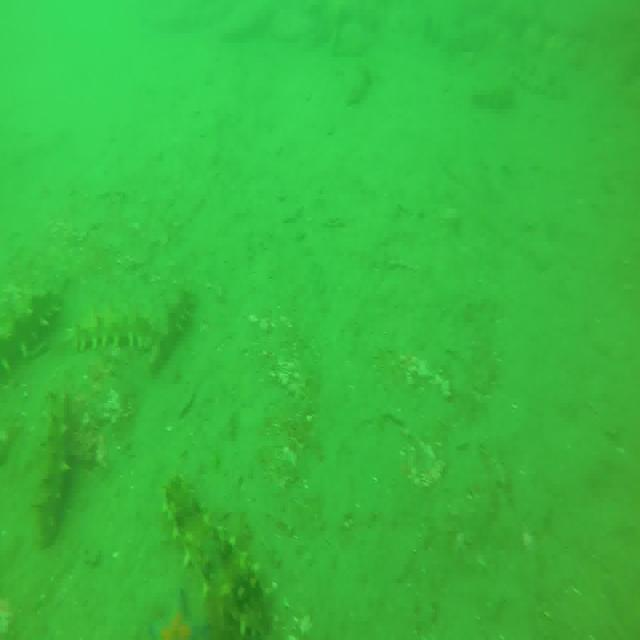echinus: (162, 476, 270, 636), (32, 392, 73, 546), (0, 285, 66, 375), (147, 284, 197, 373), (69, 312, 155, 355)
starfish: (148, 591, 211, 640)
